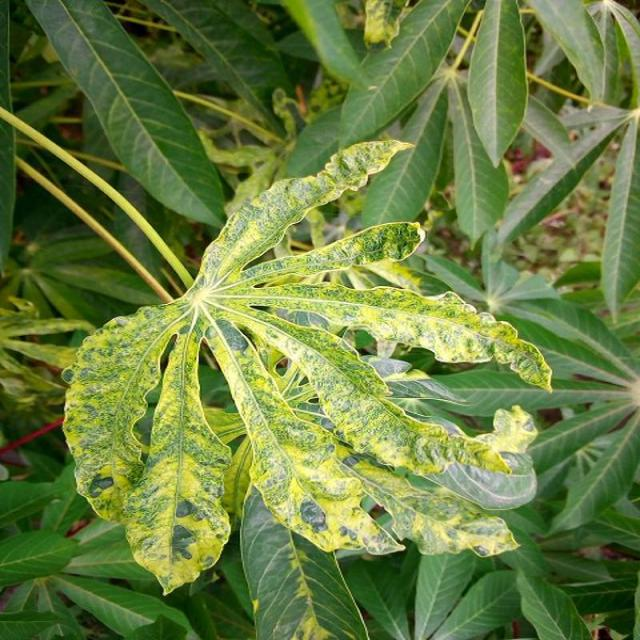cassava leaf: (59, 134, 553, 596)
